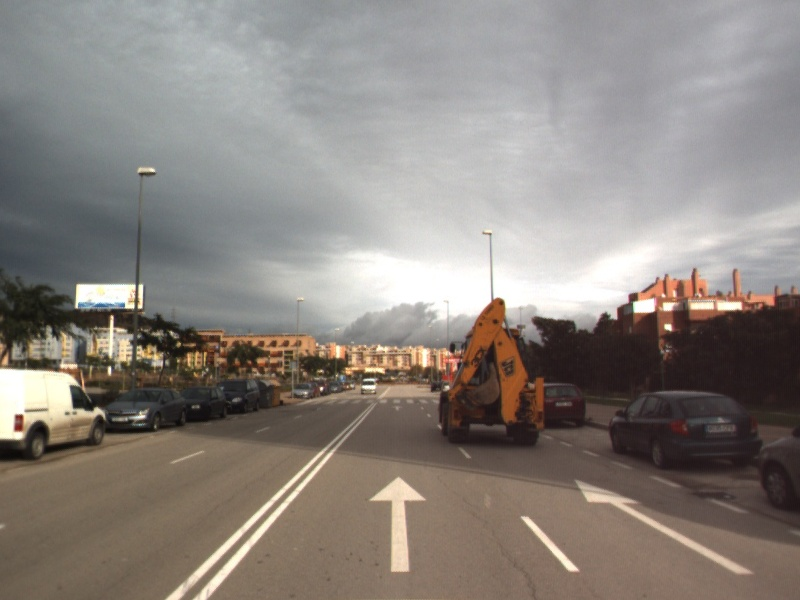STRAIGHT: (573, 478, 756, 576), (366, 474, 429, 574), (389, 404, 405, 412)
